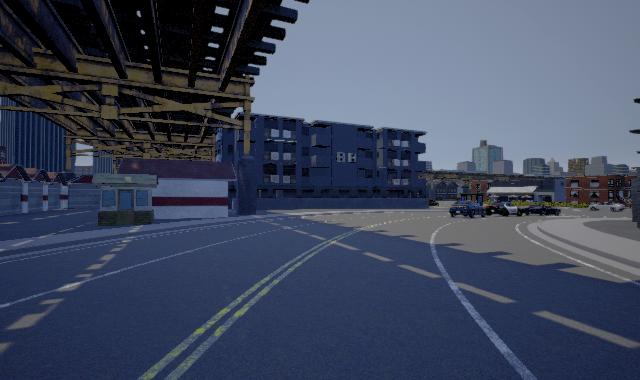vehicle: (483, 194, 522, 219), (523, 201, 563, 218), (449, 201, 486, 219), (588, 202, 626, 212)
